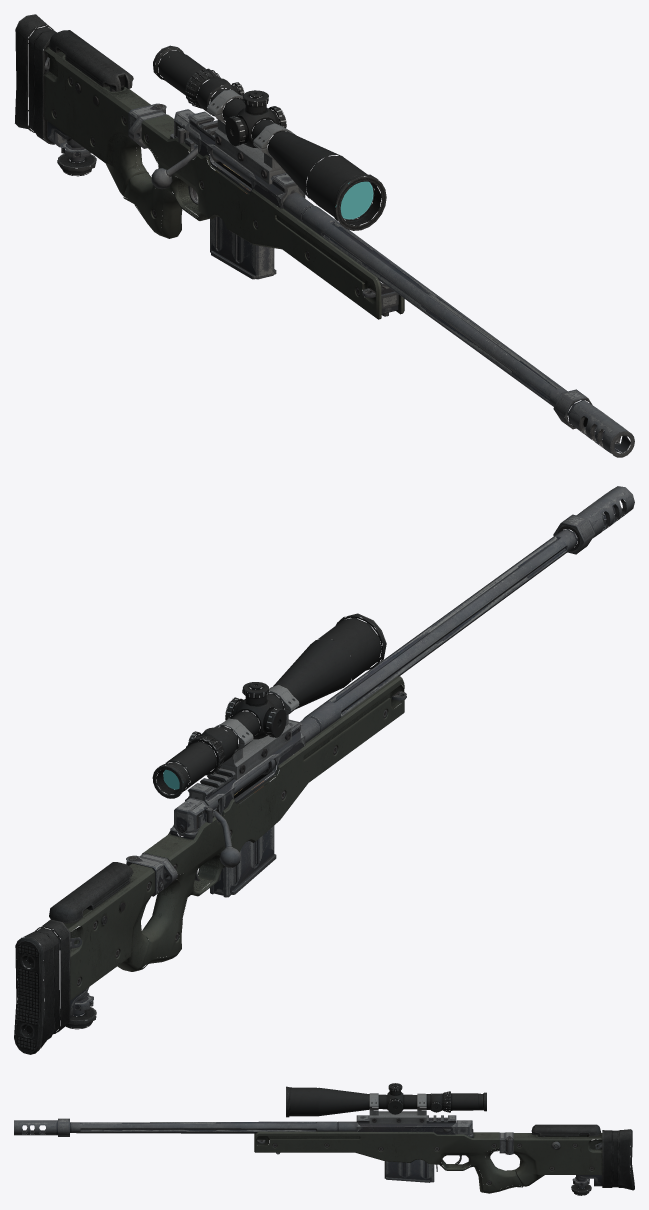
File: sniper.glb
3 views of the same model, one above another, from view 1: azimuth 30°, elevation 25°; view 2: azimuth 150°, elevation 25°; view 3: azimuth 270°, elevation 25° (orthographic). The views are drawn at different scales.
Parts seen in each view (by area): view 1: base; view 2: base; view 3: base.
Boxes of the visible parts, <box> form: base: <box>15,14,634,457</box>; base: <box>14,486,634,1054</box>; base: <box>14,1083,634,1195</box>.
Size of the model in its own units: 11.25 by 32.25 by 168.
1 material, 1 textured.
